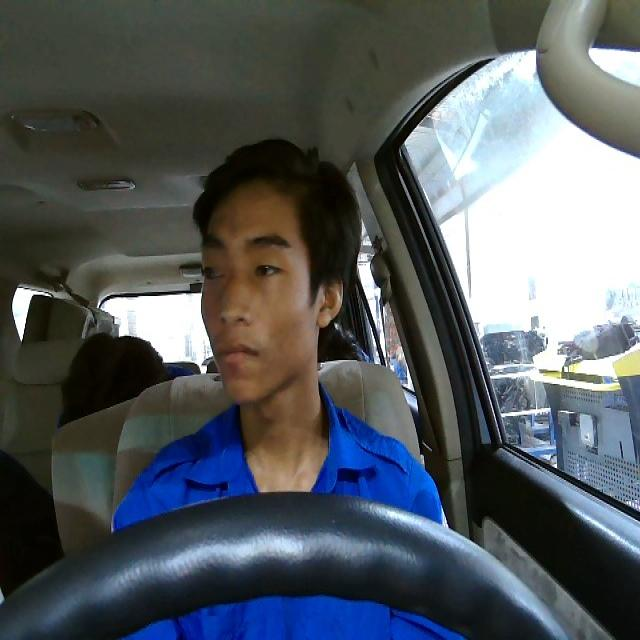seeing_left: (198, 179, 345, 405)
